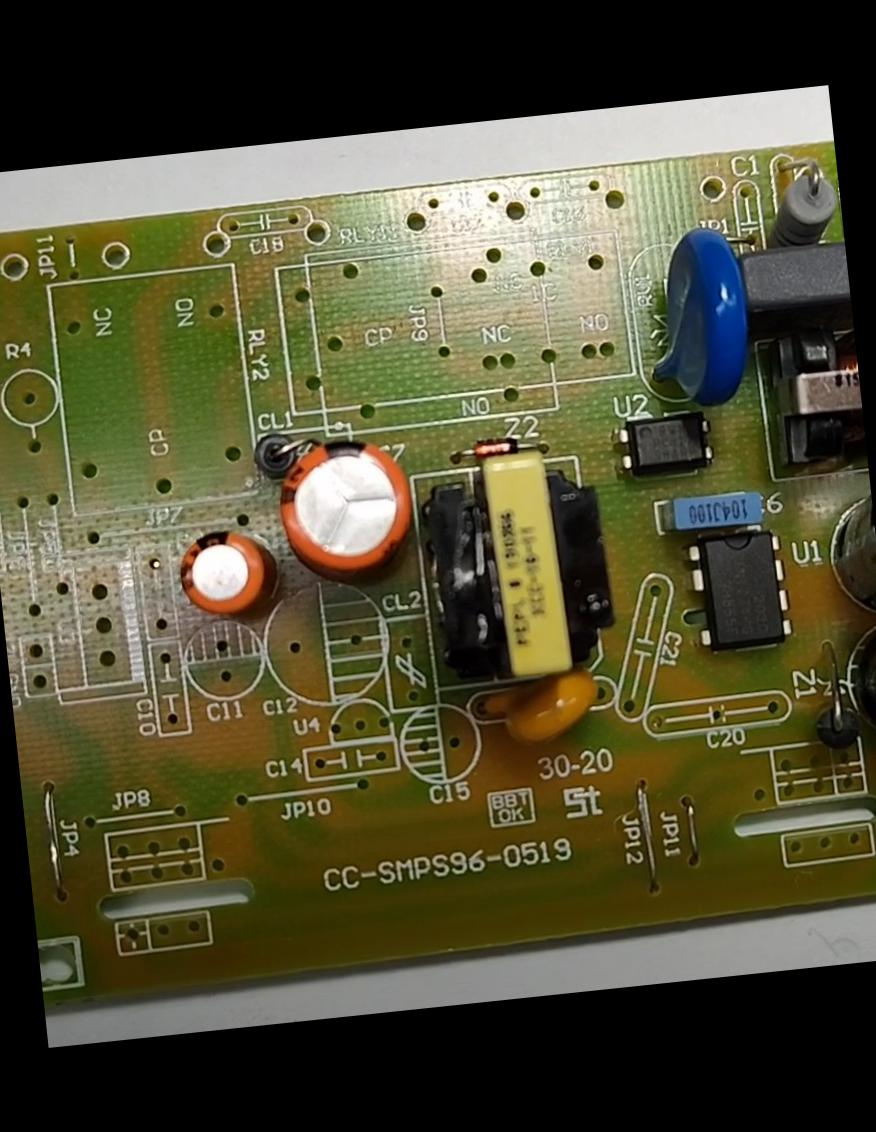Cap1: (269, 427, 426, 591)
Cap2: (162, 516, 290, 632)
Cap3: (816, 459, 875, 617)
Cap4: (830, 607, 875, 764)
MOSFET: (678, 525, 796, 658)
Mov: (626, 217, 761, 412)
Resistor: (746, 152, 844, 252)
Transformer: (417, 436, 626, 702), (769, 318, 866, 469)
